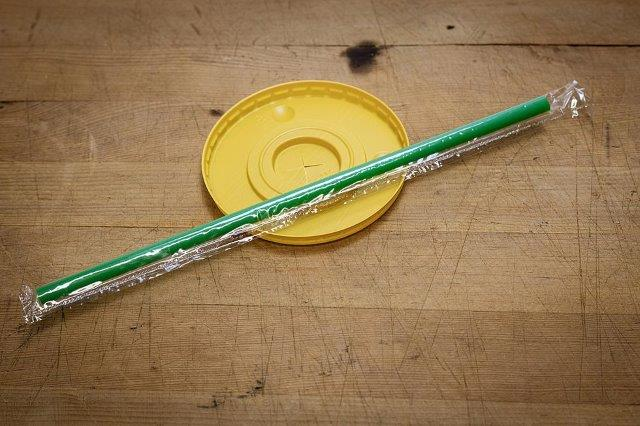sedotan: (38, 96, 552, 313)
